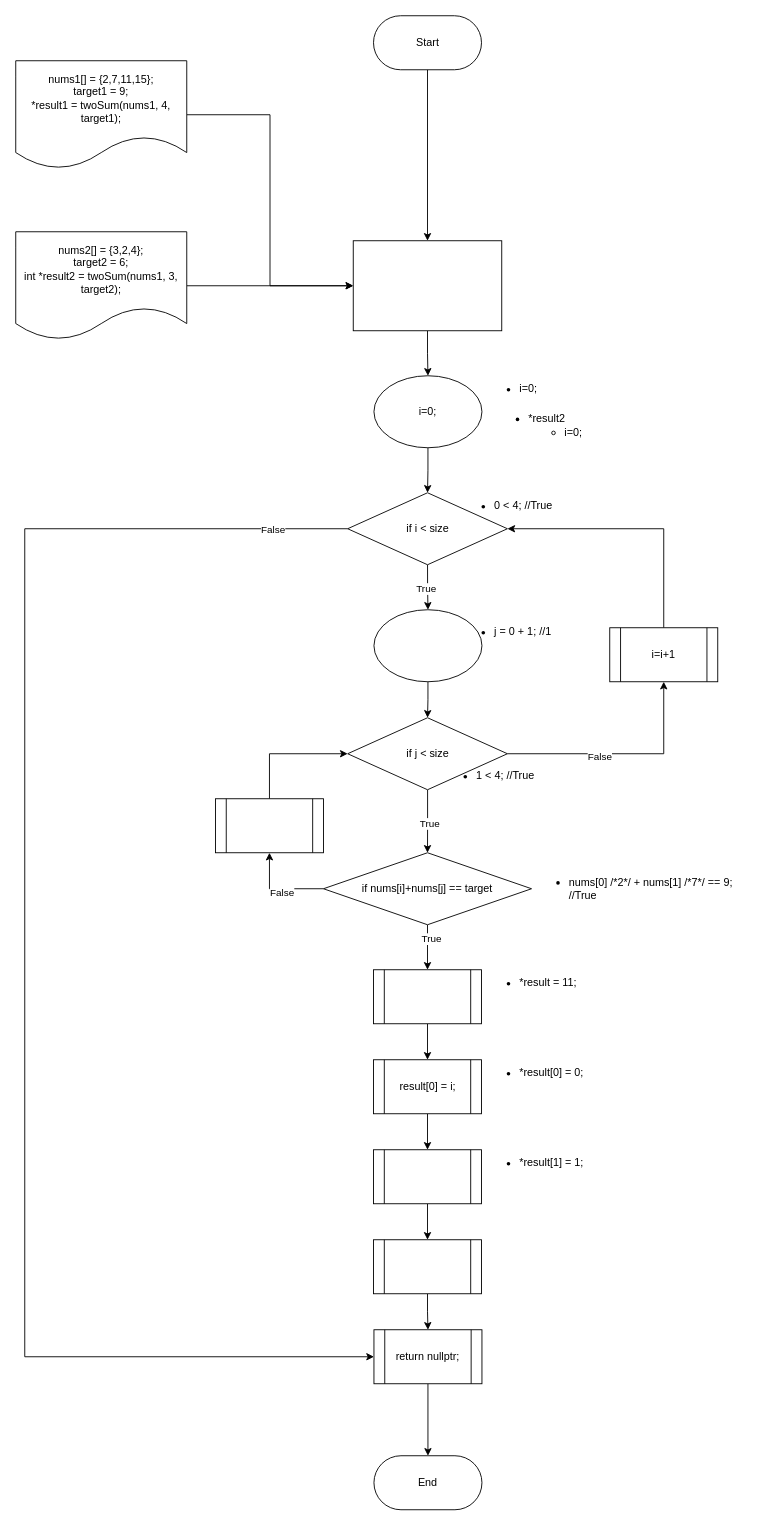
Some shapes in this 779 by 1526 pixel diagram are drawn without their labels. The centre of each missing label's shape, as x and y in pixels:
"int *twoSum(nums1, size, target){ ... }" goes at point (427, 285).
"int* result = new int[2];" goes at point (427, 996).
"j = i+1" goes at point (427, 645).
"j=j+1;" goes at point (269, 825).
"result[1] = j;" goes at point (427, 1176).
"return result;" goes at point (427, 1266).
